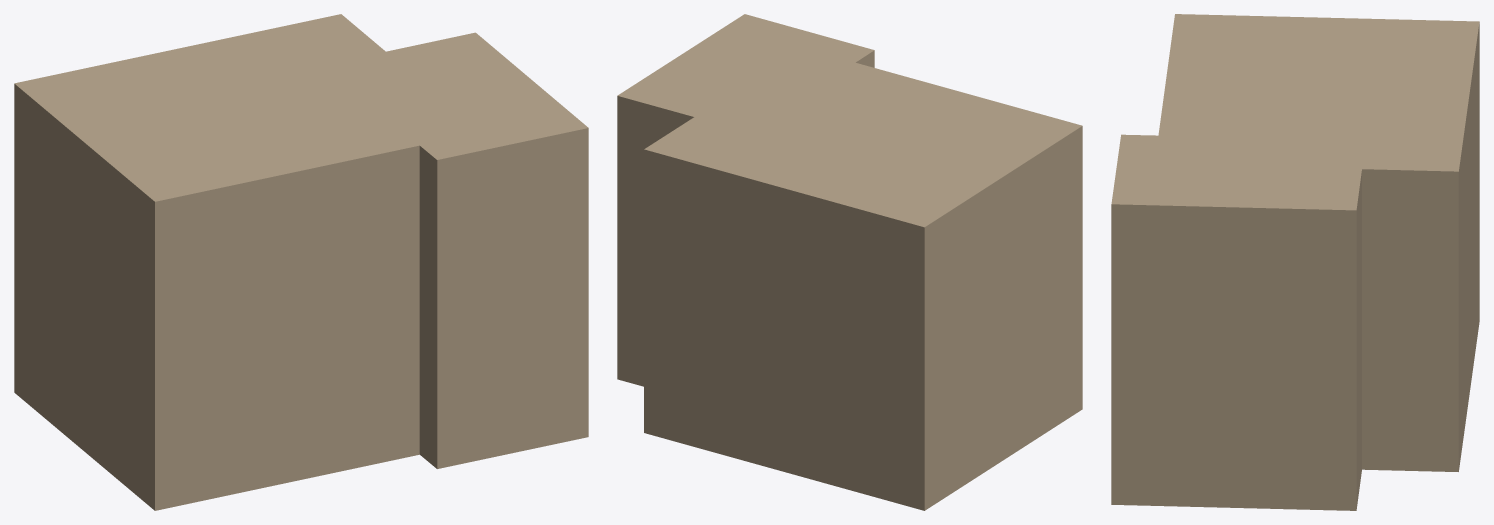
File: bld_101572512.dae
3 views of the same model, side by side, from view 1: azimuth 30°, elevation 25°; view 2: azimuth 150°, elevation 25°; view 3: azimuth 270°, elevation 25° (orthographic). The views are drawn at different scales.
Parts seen in each view (by area): view 1: bld_101572512; view 2: bld_101572512; view 3: bld_101572512.
Part boxes in pixels (left/top/right/bottom): bld_101572512: left=14, top=14, right=588, bottom=510; bld_101572512: left=617, top=14, right=1082, bottom=510; bld_101572512: left=1111, top=14, right=1479, bottom=510.
Bounding box in the file's own units: 11.21 × 8.88 × 8.
